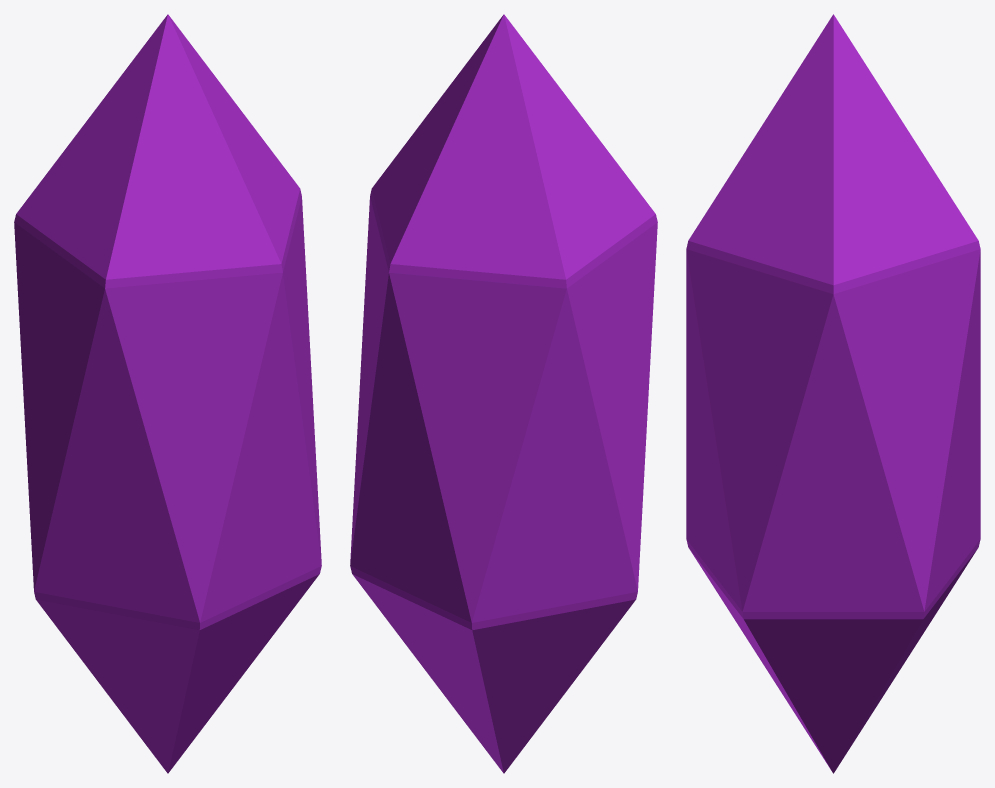
The model's file is CRYSTALEND.fbx.
3 renders of one model, left to right at view 1: azimuth 30°, elevation 25°; view 2: azimuth 150°, elevation 25°; view 3: azimuth 270°, elevation 25°, orthographic.
Parts seen in each view (by area): view 1: Icosphere; view 2: Icosphere; view 3: Icosphere.
Boxes of the visible parts, x1,y1,x2,y2 form: Icosphere: [14, 14, 321, 773]; Icosphere: [350, 14, 657, 773]; Icosphere: [686, 14, 980, 773].
Bounding box in the file's own units: 366 × 991 × 348.
